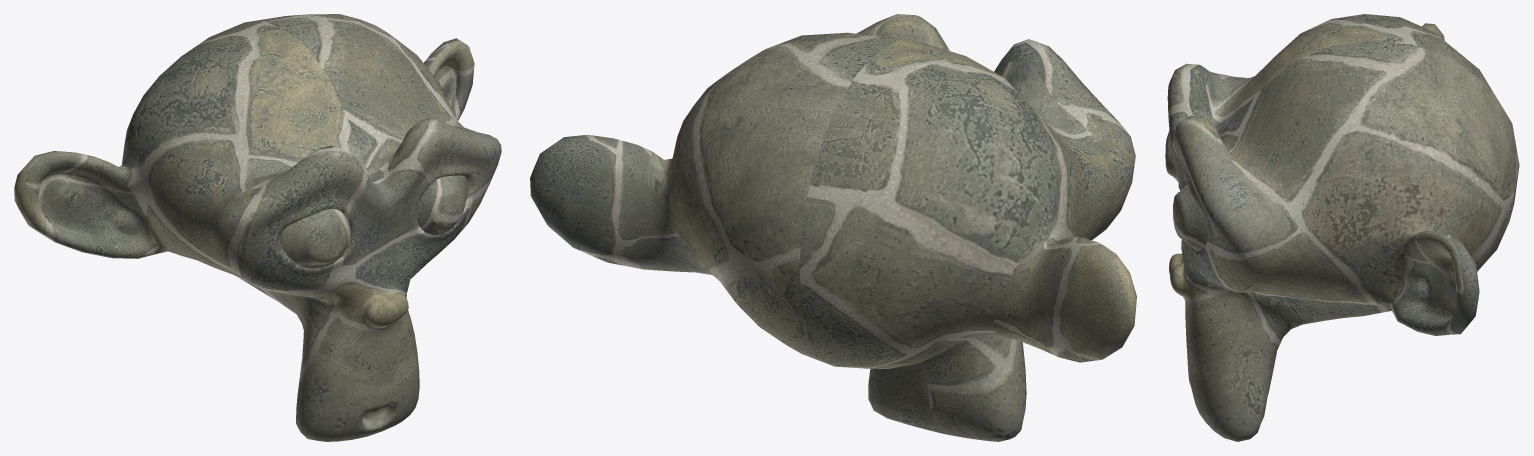
File: monkey.glb
The picture shows the model from 3 angles, left to right: view 1: azimuth 30°, elevation 25°; view 2: azimuth 150°, elevation 25°; view 3: azimuth 270°, elevation 25°; orthographic projection. The views are drawn at different scales.
Visible parts, largest first — view 1: Suzanne; view 2: Suzanne; view 3: Suzanne.
Part boxes in pixels (<box>): Suzanne: <box>14,14,501,441</box>; Suzanne: <box>530,14,1136,441</box>; Suzanne: <box>1165,14,1519,441</box>.
Bounding box in the file's own units: 2.65 × 1.91 × 1.61.
Materials: 1 (1 with a texture image).
